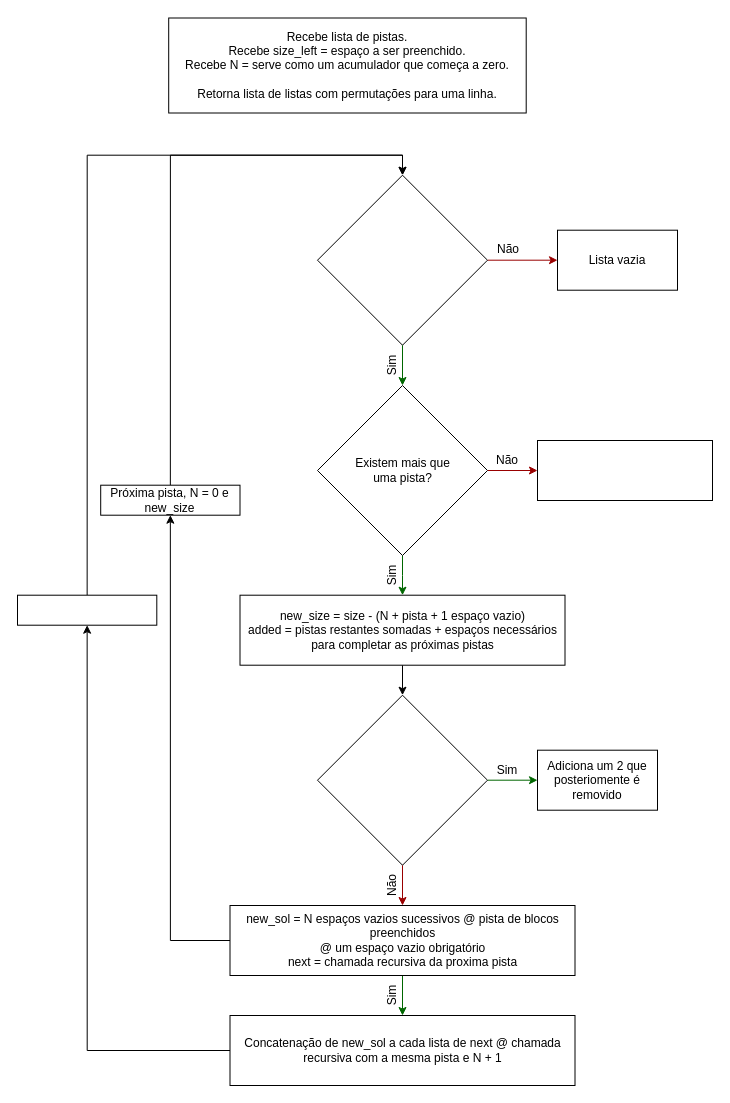
The diagram is 730 pixels wide and 1103 high, and some of its shapes have lost their labels. The shapes that lost their labels are listed below. From the top down, each one's centre as x and y in pixels, then its label:
At point (402, 259): "Existem pistas?".
At point (624, 470): "Permutações de uma pista com size_left".
At point (86, 609): "Mesma pista, N + 1 e size_left".
At point (402, 779): "new_size < added".
